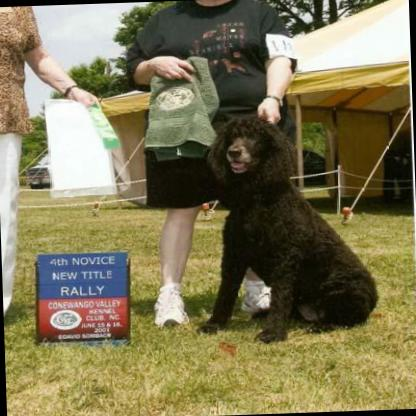Irish_water_spaniel: (186, 103, 384, 342)
